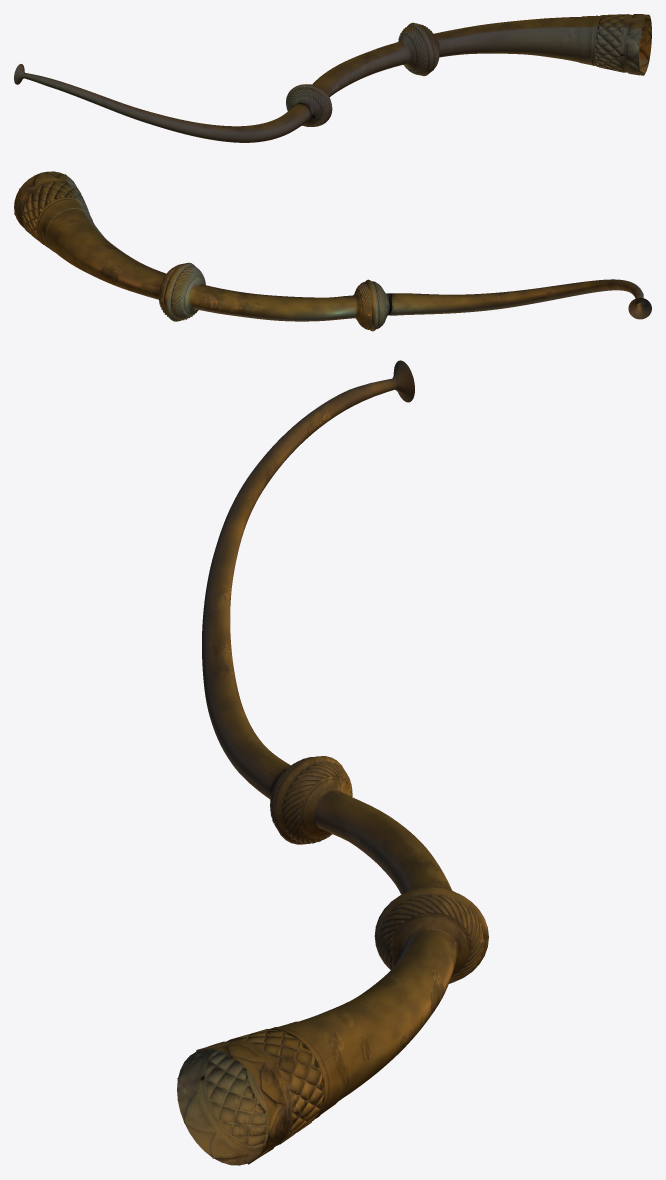
File: IRULA_Kombu.glb
3 renders of one model, top to bottom at view 1: azimuth 30°, elevation 25°; view 2: azimuth 150°, elevation 25°; view 3: azimuth 270°, elevation 25°, orthographic. The views are drawn at different scales.
Parts seen in each view (by area): view 1: trumpet; view 2: trumpet; view 3: trumpet.
Boxes of the visible parts, box(x1,y1,x2,y2) form: trumpet: box(14, 14, 651, 142); trumpet: box(14, 171, 651, 331); trumpet: box(177, 360, 488, 1165).
Bounding box in the file's own units: 1.02 × 0.1879 × 0.2272.
Materials: 1 (1 with a texture image).
